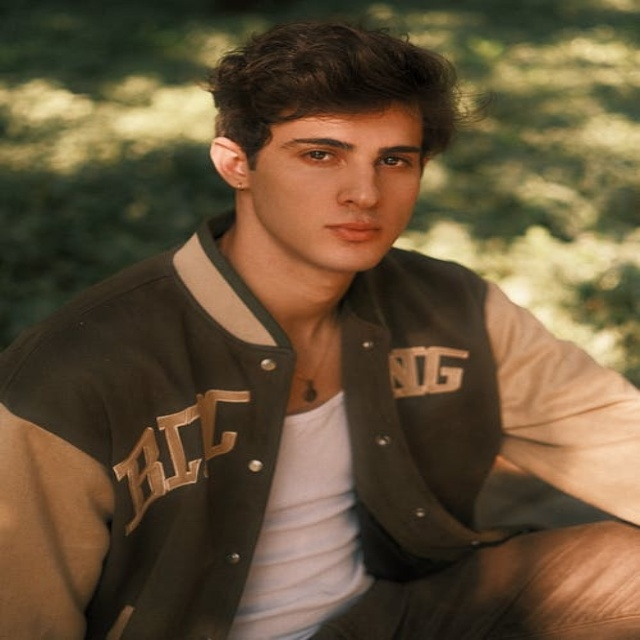Sin_gafas: (288, 130, 424, 181)
Sin_mascara: (306, 212, 392, 265)
